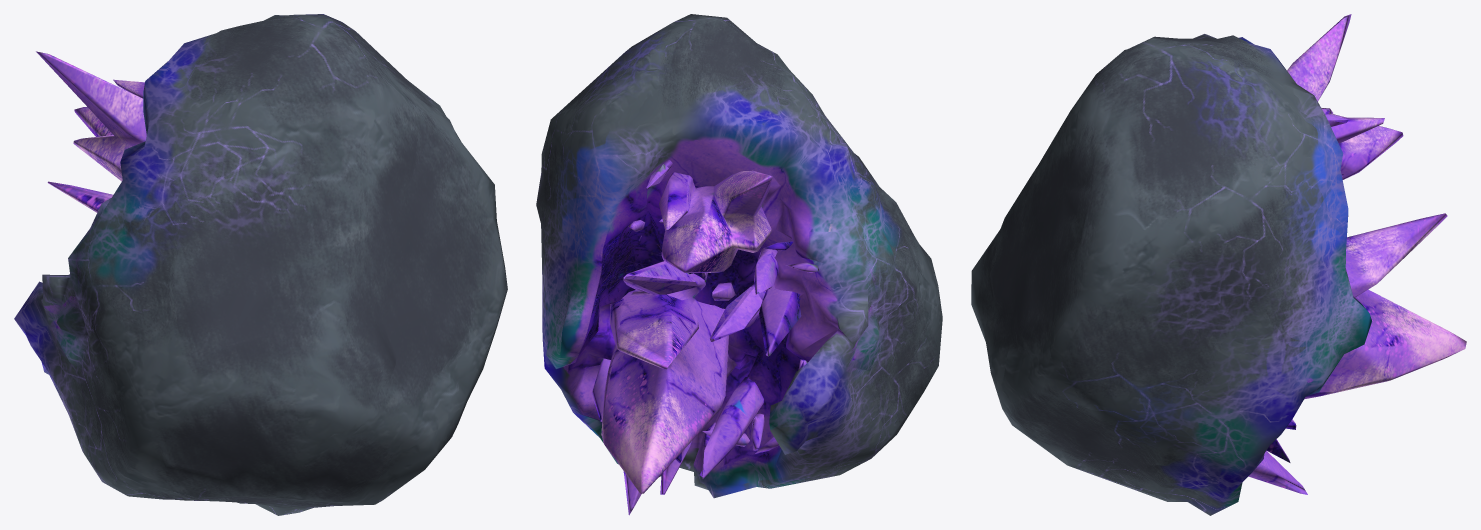
Rendered from tiny_geode.glb.
The picture shows the model from 3 angles, left to right: view 1: azimuth 30°, elevation 25°; view 2: azimuth 150°, elevation 25°; view 3: azimuth 270°, elevation 25°; orthographic projection. The views are drawn at different scales.
Visible parts, largest first — view 1: Stein_LP:Group24553 group1, group1 Kristalle_LP:Group57536; view 2: Stein_LP:Group24553 group1, group1 Kristalle_LP:Group57536; view 3: Stein_LP:Group24553 group1, group1 Kristalle_LP:Group57536.
Part boxes in pixels (bbox=[...]): Stein_LP:Group24553 group1: bbox=[14, 14, 507, 515]; group1 Kristalle_LP:Group57536: bbox=[36, 51, 146, 212]; Stein_LP:Group24553 group1: bbox=[536, 14, 942, 498]; group1 Kristalle_LP:Group57536: bbox=[591, 160, 818, 515]; Stein_LP:Group24553 group1: bbox=[971, 34, 1371, 515]; group1 Kristalle_LP:Group57536: bbox=[1248, 14, 1466, 494].
Bounding box in the file's own units: 0.016 × 0.0198 × 0.0193.
Materials: 1 (1 with a texture image).
